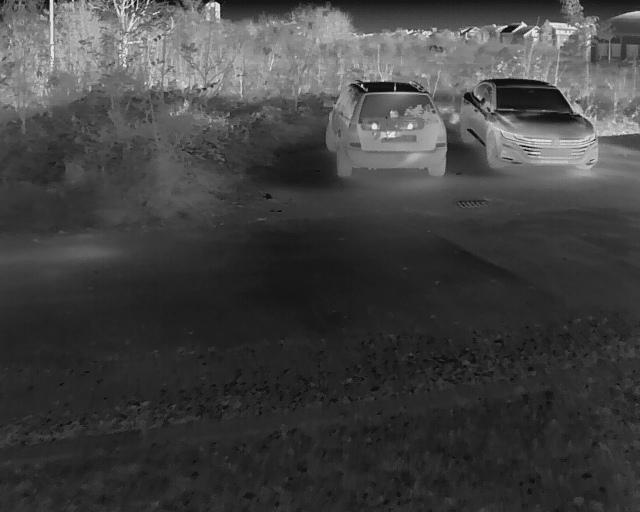drone: (354, 103, 432, 147)
